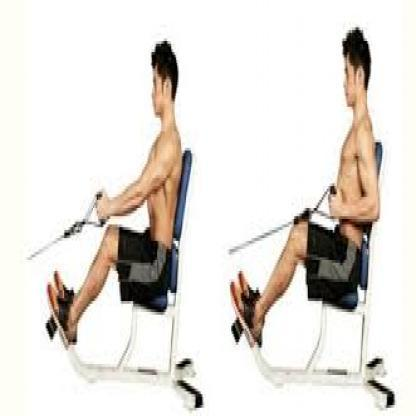Seated Cable Rows: (13, 38, 209, 412), (223, 23, 404, 412)
